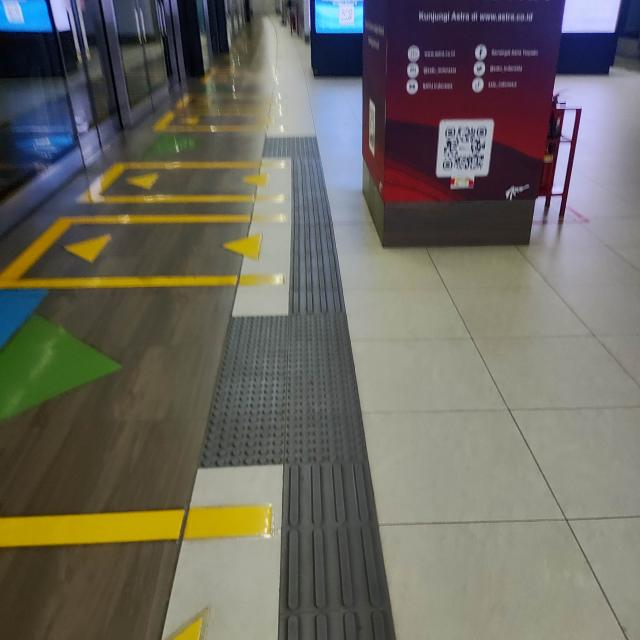lurus: (282, 166, 382, 640)
